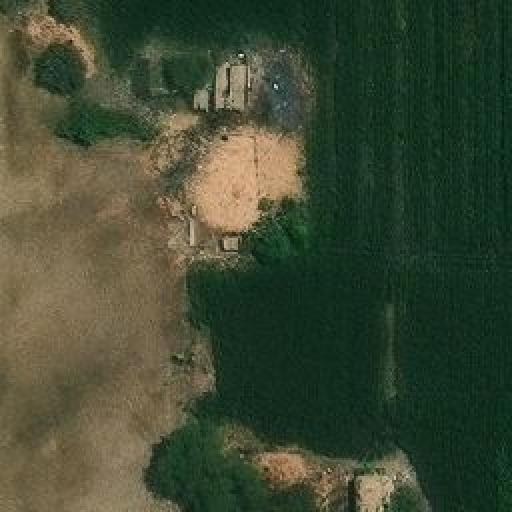manzanas: (185, 49, 256, 115)
